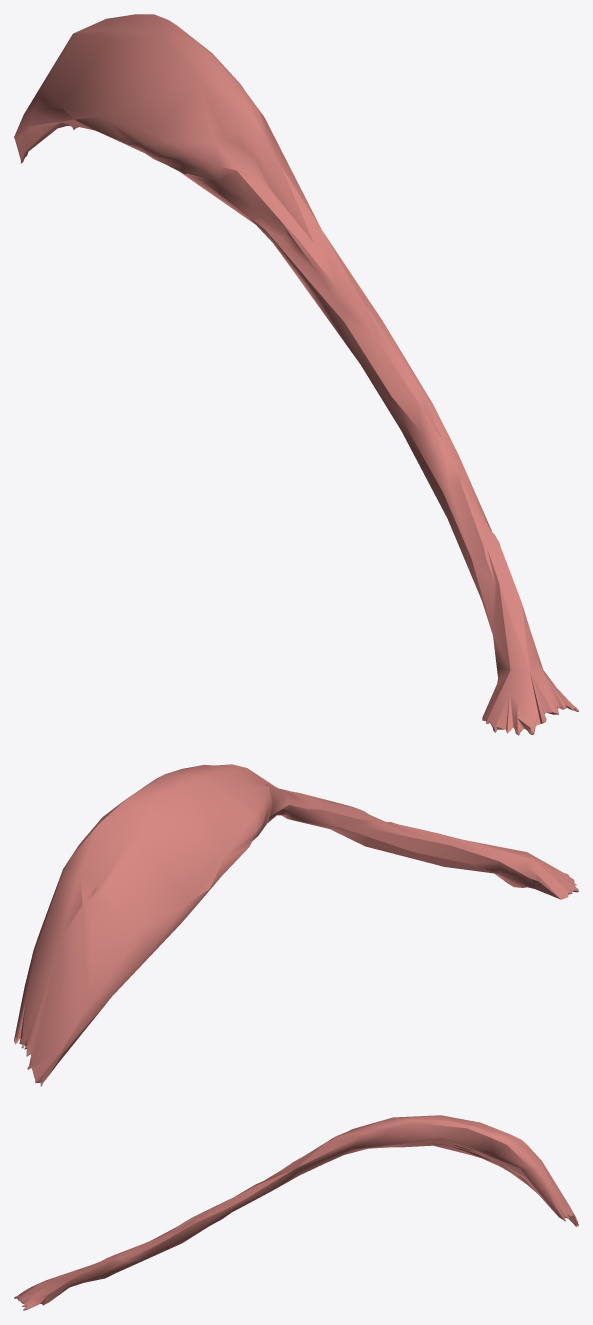
The model's file is fma51144_fj1407.glb.
The picture shows the model from 3 angles, top to bottom: view 1: azimuth 30°, elevation 25°; view 2: azimuth 150°, elevation 25°; view 3: azimuth 270°, elevation 25°; orthographic projection. The views are drawn at different scales.
Visible parts, largest first — view 1: FMA51144_FJ1407; view 2: FMA51144_FJ1407; view 3: FMA51144_FJ1407.
Boxes of the visible parts, x1,y1,x2,y2 form: FMA51144_FJ1407: (14,14,578,735); FMA51144_FJ1407: (14,764,578,1086); FMA51144_FJ1407: (14,1115,578,1310).
Size of the model in its own units: 0.014 by 0.0459 by 0.1199.
